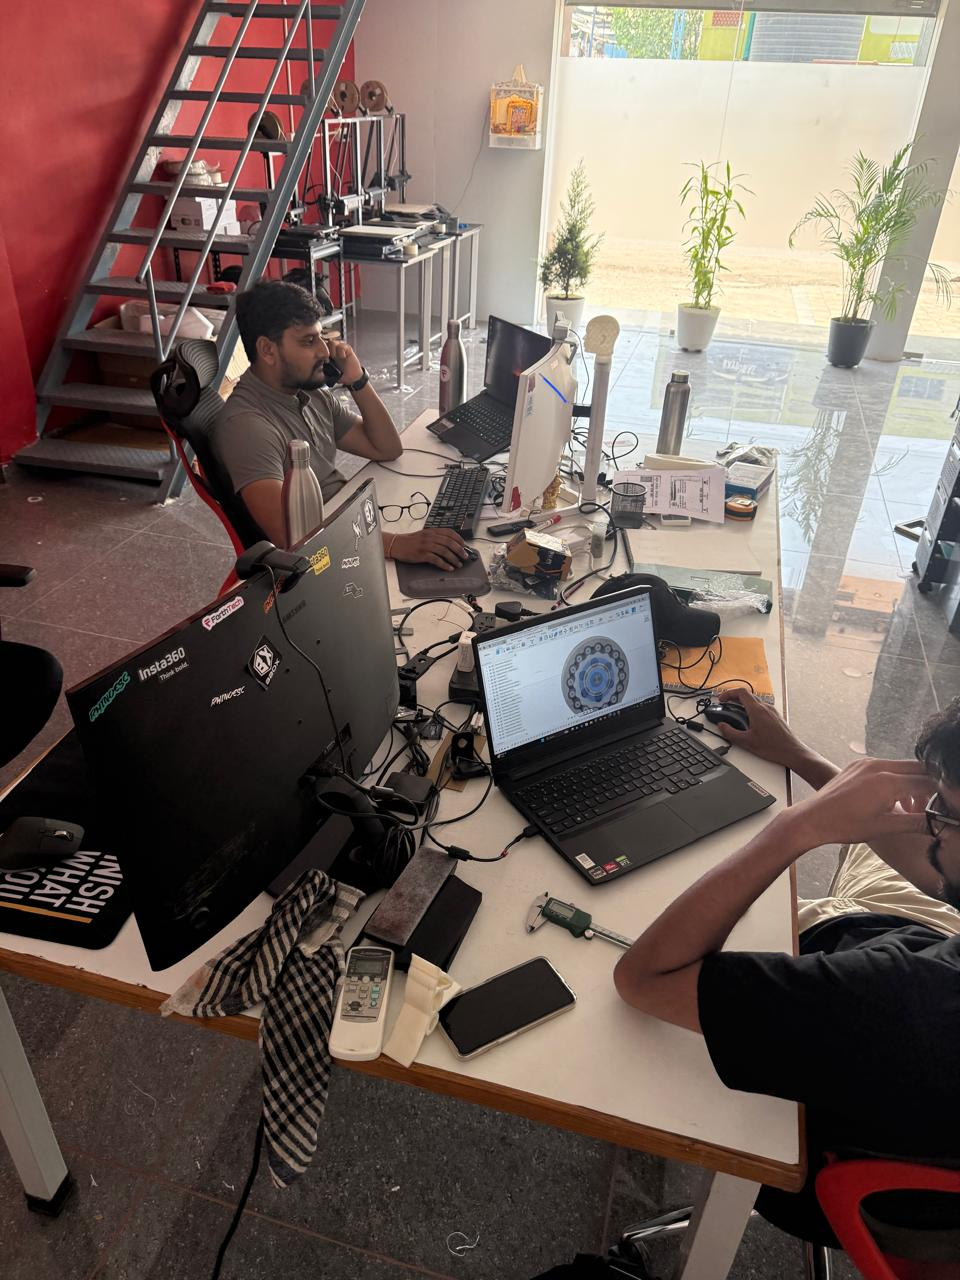bottle_on_table: (282, 442, 348, 580), (646, 365, 715, 454), (434, 315, 467, 417)
